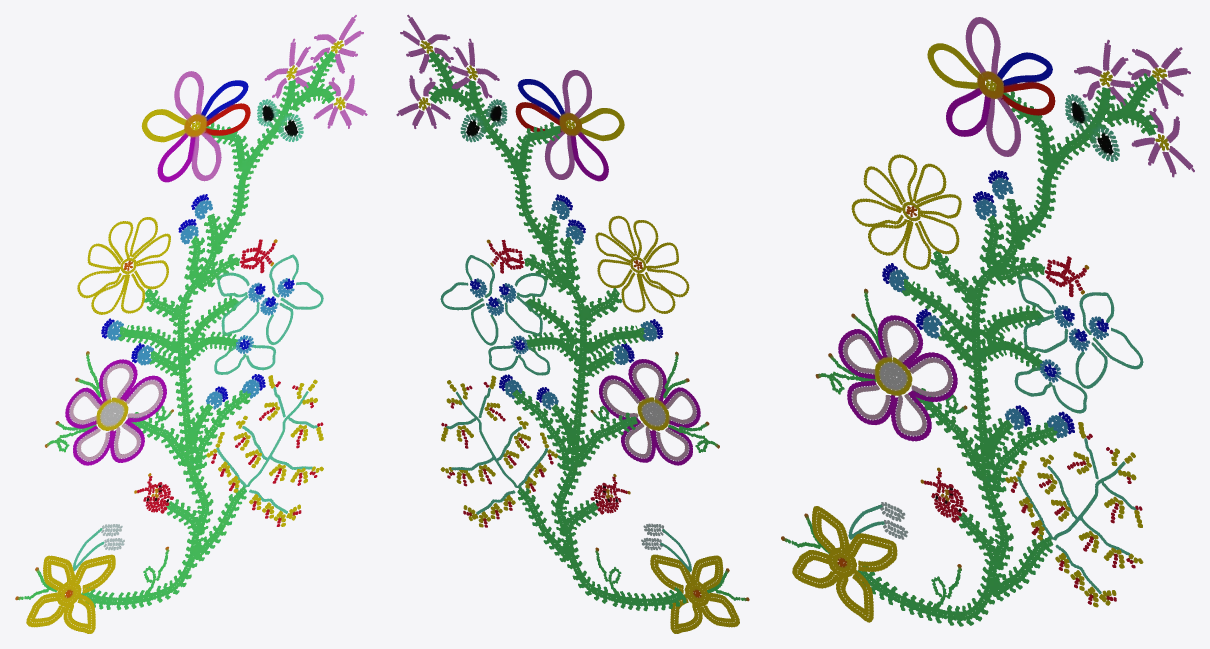
Rendered from spray.glb.
3 renders of one model, left to right at view 1: azimuth 30°, elevation 25°; view 2: azimuth 150°, elevation 25°; view 3: azimuth 330°, elevation 25°, orthographic. The views are drawn at different scales.
Parts seen in each view (by area): view 1: spray; view 2: spray; view 3: spray.
Part boxes in pixels (bbox=[...]): spray: bbox=[15, 15, 367, 633]; spray: bbox=[396, 14, 749, 633]; spray: bbox=[781, 17, 1194, 626].
Bounding box in the file's own units: 2.85 × 4.28 × 0.0149.
Materials: 1 (1 with a texture image).
